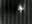person: (18, 4, 26, 15)
